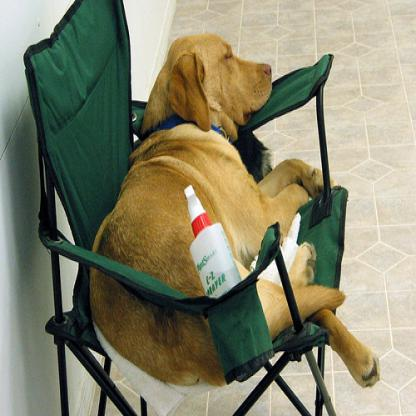chair: (19, 0, 350, 415)
dog: (88, 31, 381, 390)
